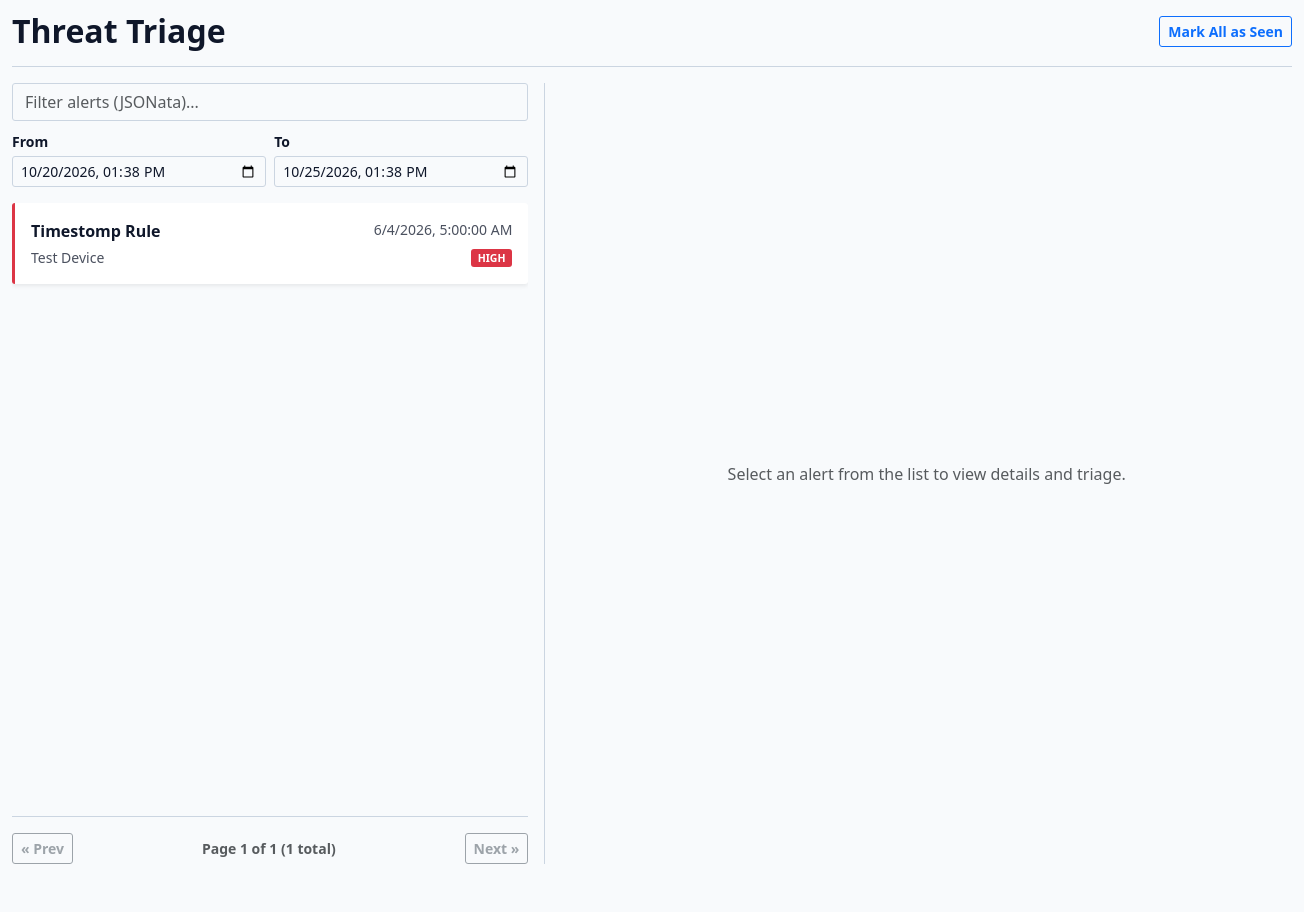
it: Alerts Page › Rustinel New Alert Fields UI › renders timestomping detection when edr.file.previous_created is present
Click the text "Timestomp Rule" at point(96, 231), box [31,219,160,243]
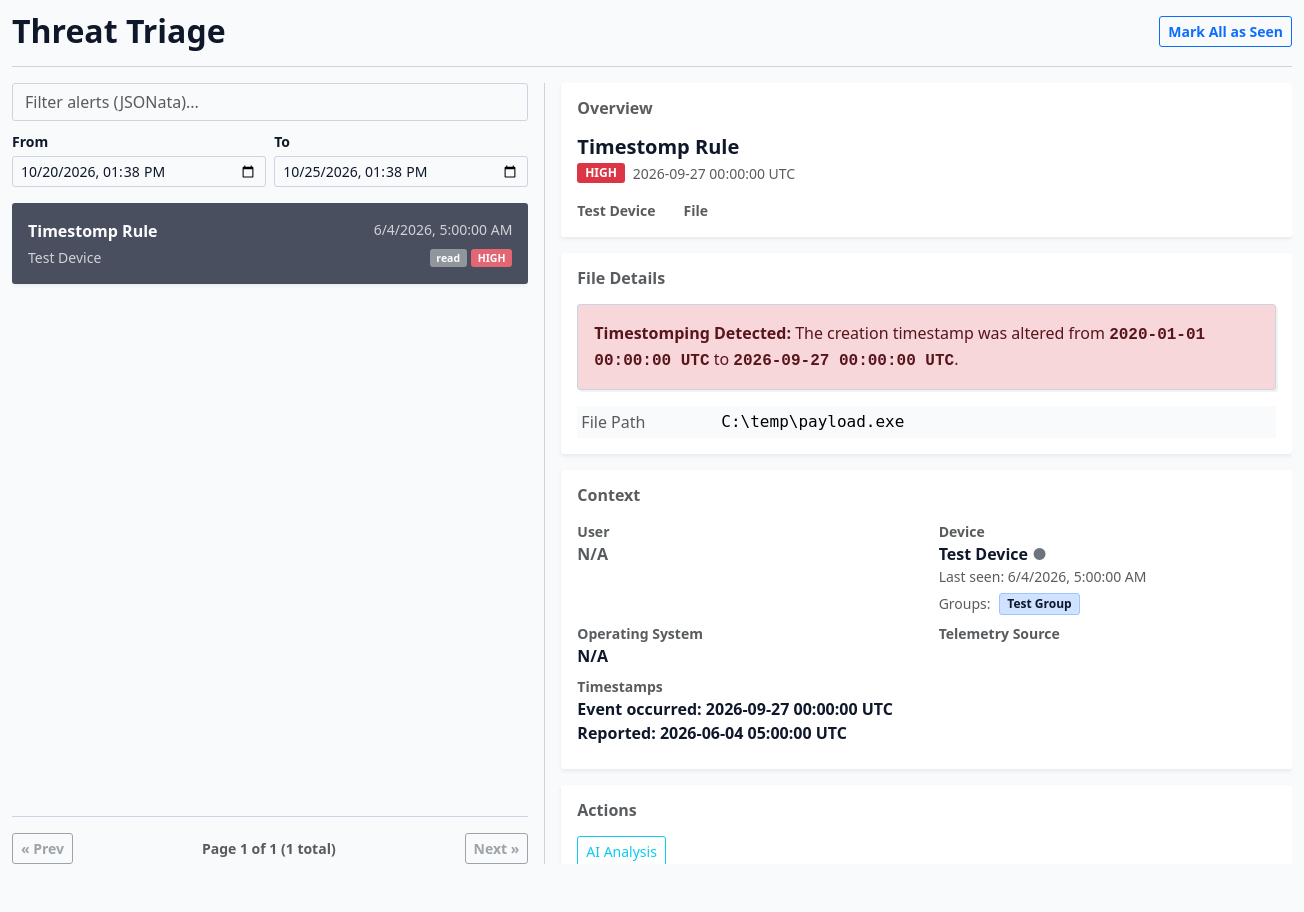
Check: the text "Timestomping Detected:" is shown, box [594,322,791,344]
